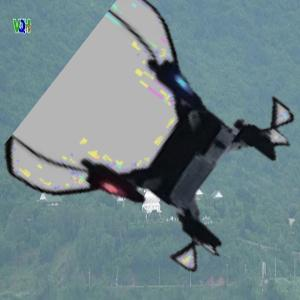drone: (40, 21, 284, 265)
